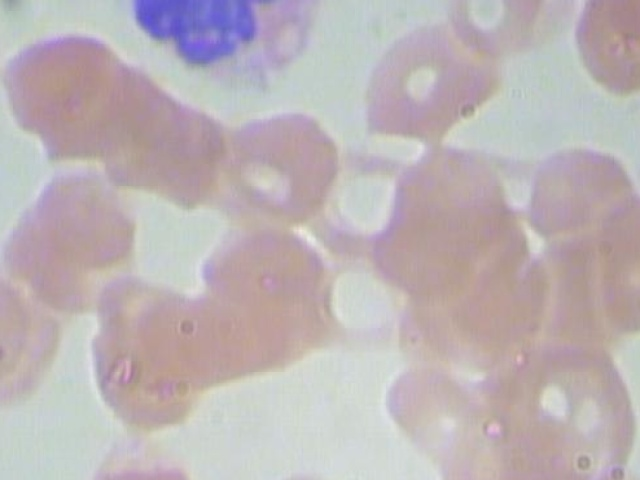RBC: (339, 15, 523, 150), (501, 321, 640, 480), (192, 206, 340, 325), (63, 57, 182, 180), (308, 232, 427, 355), (150, 101, 269, 223), (89, 86, 208, 208), (227, 100, 345, 222), (306, 137, 424, 259), (524, 137, 640, 259), (0, 27, 113, 150), (377, 350, 494, 459), (567, 0, 640, 110), (439, 0, 571, 51), (0, 256, 38, 378), (622, 169, 640, 345), (251, 458, 368, 480), (0, 0, 12, 130)
WBC: (114, 0, 348, 107)
